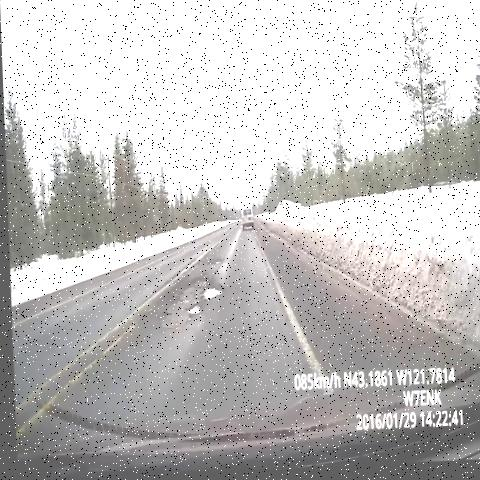pothole: (151, 272, 228, 350), (201, 250, 224, 277)
